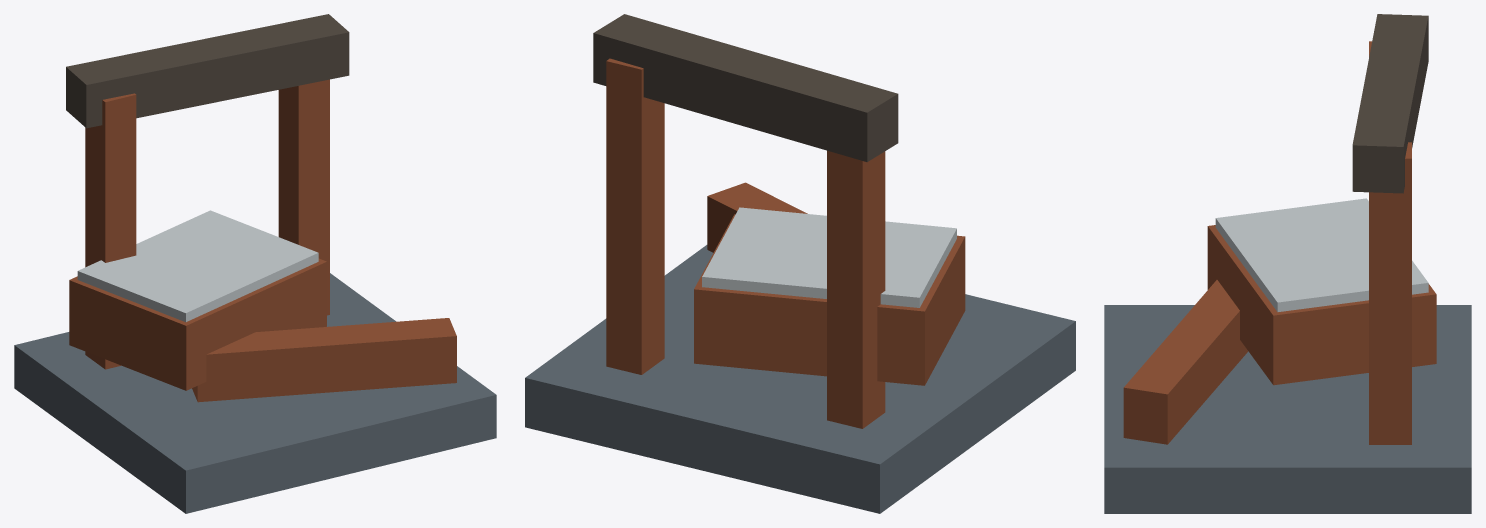
Rendered from scrap_ruin.glb.
The picture shows the model from 3 angles, left to right: view 1: azimuth 30°, elevation 25°; view 2: azimuth 150°, elevation 25°; view 3: azimuth 270°, elevation 25°; orthographic projection. The views are drawn at different scales.
Parts seen in each view (by area): view 1: scrap_ruin; view 2: scrap_ruin; view 3: scrap_ruin.
Part boxes in pixels (x1=…): scrap_ruin: x1=14, y1=14, x2=496, y2=513; scrap_ruin: x1=525, y1=14, x2=1075, y2=513; scrap_ruin: x1=1104, y1=14, x2=1471, y2=513.
Size of the model in its own units: 0.9 by 0.91 by 0.86.
